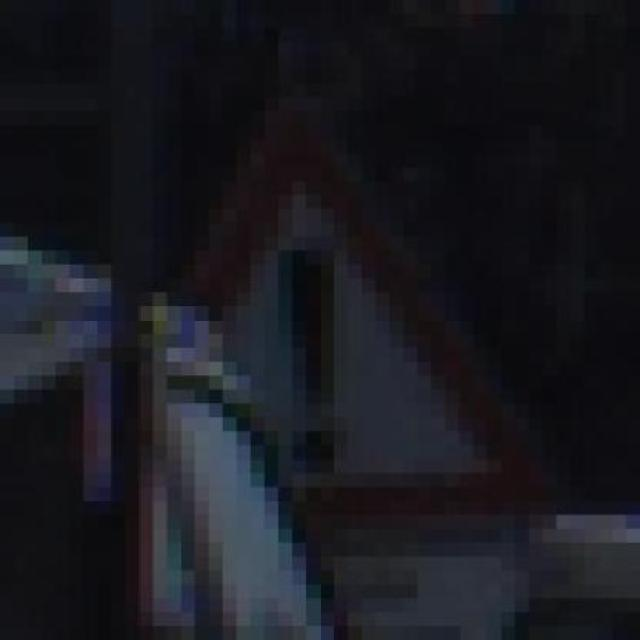Attention Please-: (111, 111, 557, 598)
